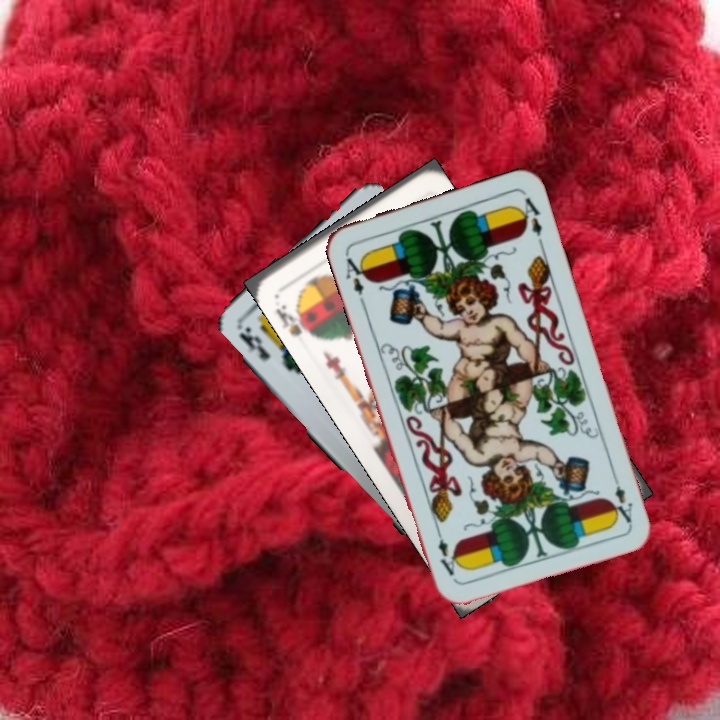EA: (341, 249, 371, 307), (606, 469, 636, 526)
EK: (234, 323, 273, 363)
SK: (271, 300, 316, 339)
